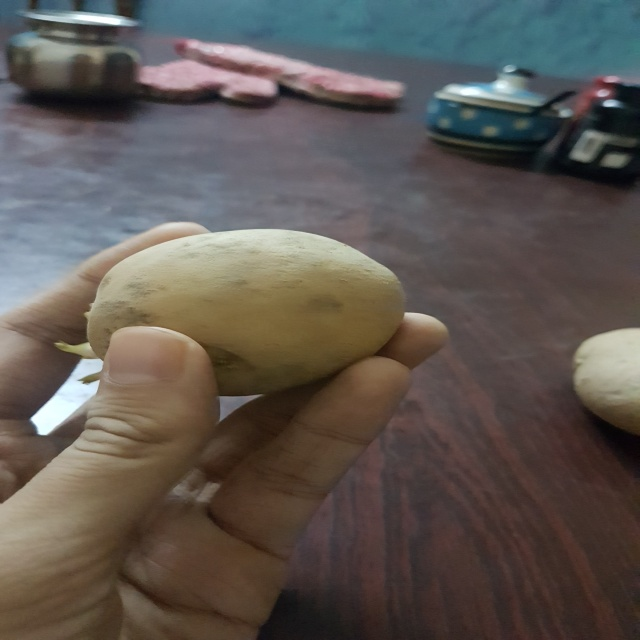potato: (56, 223, 410, 410)
